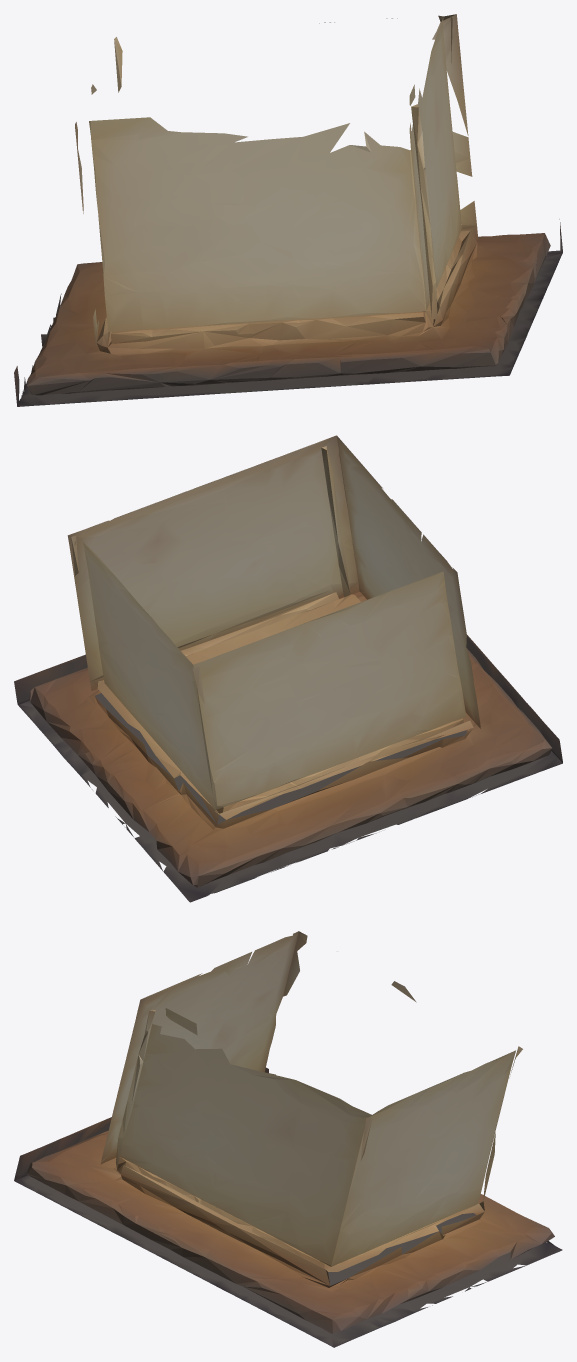
Rendered from step5_occluded_submesh_00.glb.
The picture shows the model from 3 angles, top to bottom: view 1: azimuth 30°, elevation 25°; view 2: azimuth 150°, elevation 25°; view 3: azimuth 270°, elevation 25°; orthographic projection. The views are drawn at different scales.
Parts seen in each view (by area): view 1: world; view 2: world; view 3: world.
Boxes of the visible parts, x1,y1,x2,y2 form: world: [14, 14, 562, 406]; world: [14, 435, 562, 902]; world: [14, 931, 562, 1347].
Bounding box in the file's own units: 0.5232 × 0.2919 × 0.512.
